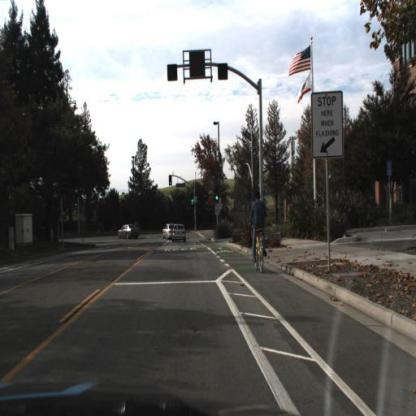biker: (251, 193, 268, 275), (135, 222, 141, 231)
car: (118, 224, 140, 241), (172, 224, 190, 244), (117, 225, 139, 240), (163, 224, 176, 242)
trafficLight: (191, 195, 195, 207), (192, 198, 195, 206)
trafficLight-Green: (215, 188, 221, 204), (215, 188, 220, 204)
trafficLight-GreenLeft: (169, 176, 174, 188), (169, 175, 174, 186), (75, 199, 79, 212)
